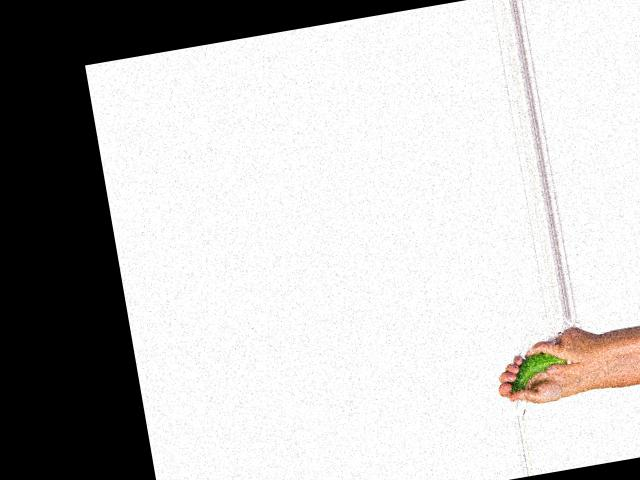cucumber: (504, 347, 571, 393)
